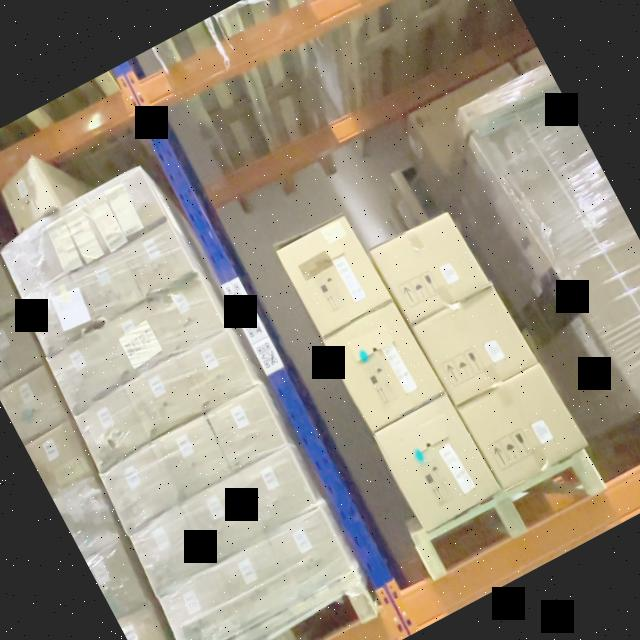box: (376, 393, 502, 528), (460, 362, 586, 488), (326, 302, 446, 430), (414, 285, 536, 405), (278, 214, 392, 335), (372, 210, 486, 322), (269, 509, 353, 597), (216, 542, 297, 626), (206, 387, 287, 469), (238, 449, 318, 531), (184, 478, 262, 560), (84, 168, 165, 246), (176, 330, 254, 410), (130, 510, 208, 590), (100, 448, 178, 528), (153, 417, 230, 496), (148, 276, 224, 352), (46, 332, 122, 408), (73, 389, 148, 466), (158, 571, 240, 640), (22, 277, 97, 352), (126, 358, 200, 434), (74, 248, 146, 322), (54, 479, 122, 555), (122, 223, 192, 295), (100, 306, 170, 378), (0, 367, 68, 441), (24, 423, 93, 495), (1, 228, 72, 296), (86, 543, 148, 617), (47, 202, 110, 268), (0, 160, 60, 227), (0, 316, 43, 386), (117, 606, 174, 640), (0, 262, 21, 332)
